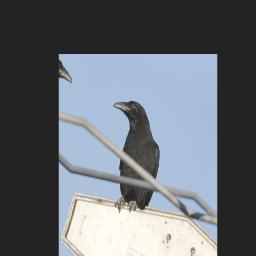Crow: (87, 90, 175, 226)
